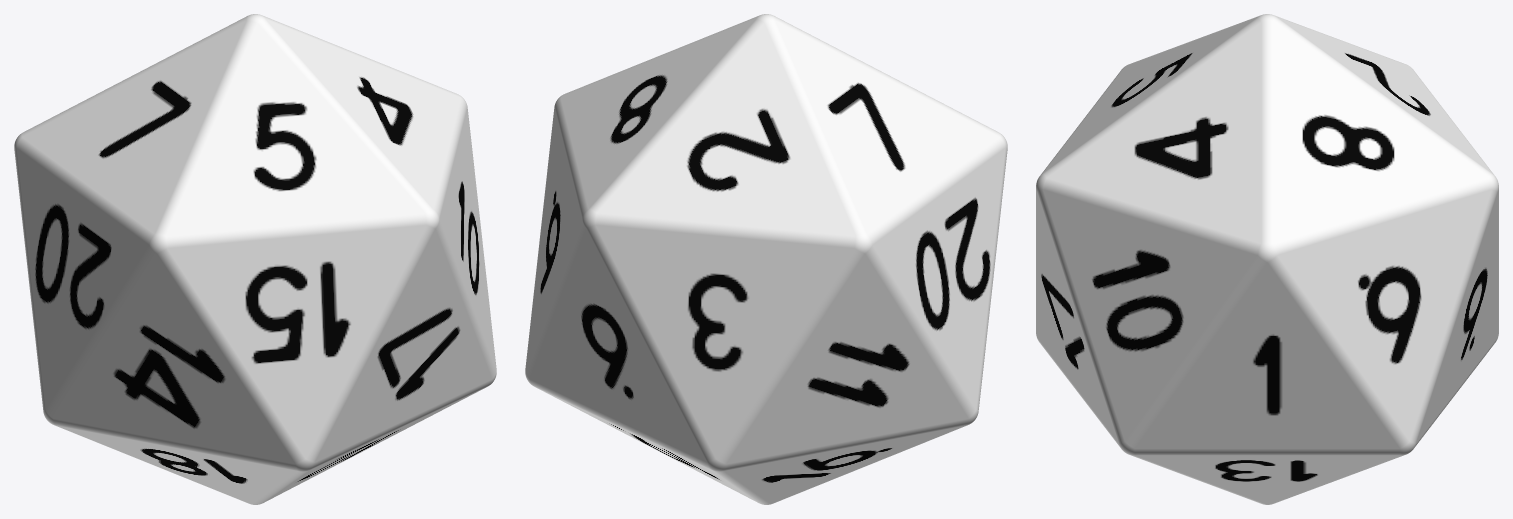
3 views of the same model, side by side, from view 1: azimuth 30°, elevation 25°; view 2: azimuth 150°, elevation 25°; view 3: azimuth 270°, elevation 25° (orthographic).
Visible parts, largest first — view 1: Regular D20; view 2: Regular D20; view 3: Regular D20.
Boxes of the visible parts, x1,y1,x2,y2 form: Regular D20: (14,14,496,504); Regular D20: (525,14,1007,504); Regular D20: (1036,14,1498,504).
Bounding box in the file's own units: 1.77 × 1.97 × 1.69.
Materials: 1 (1 with a texture image).
